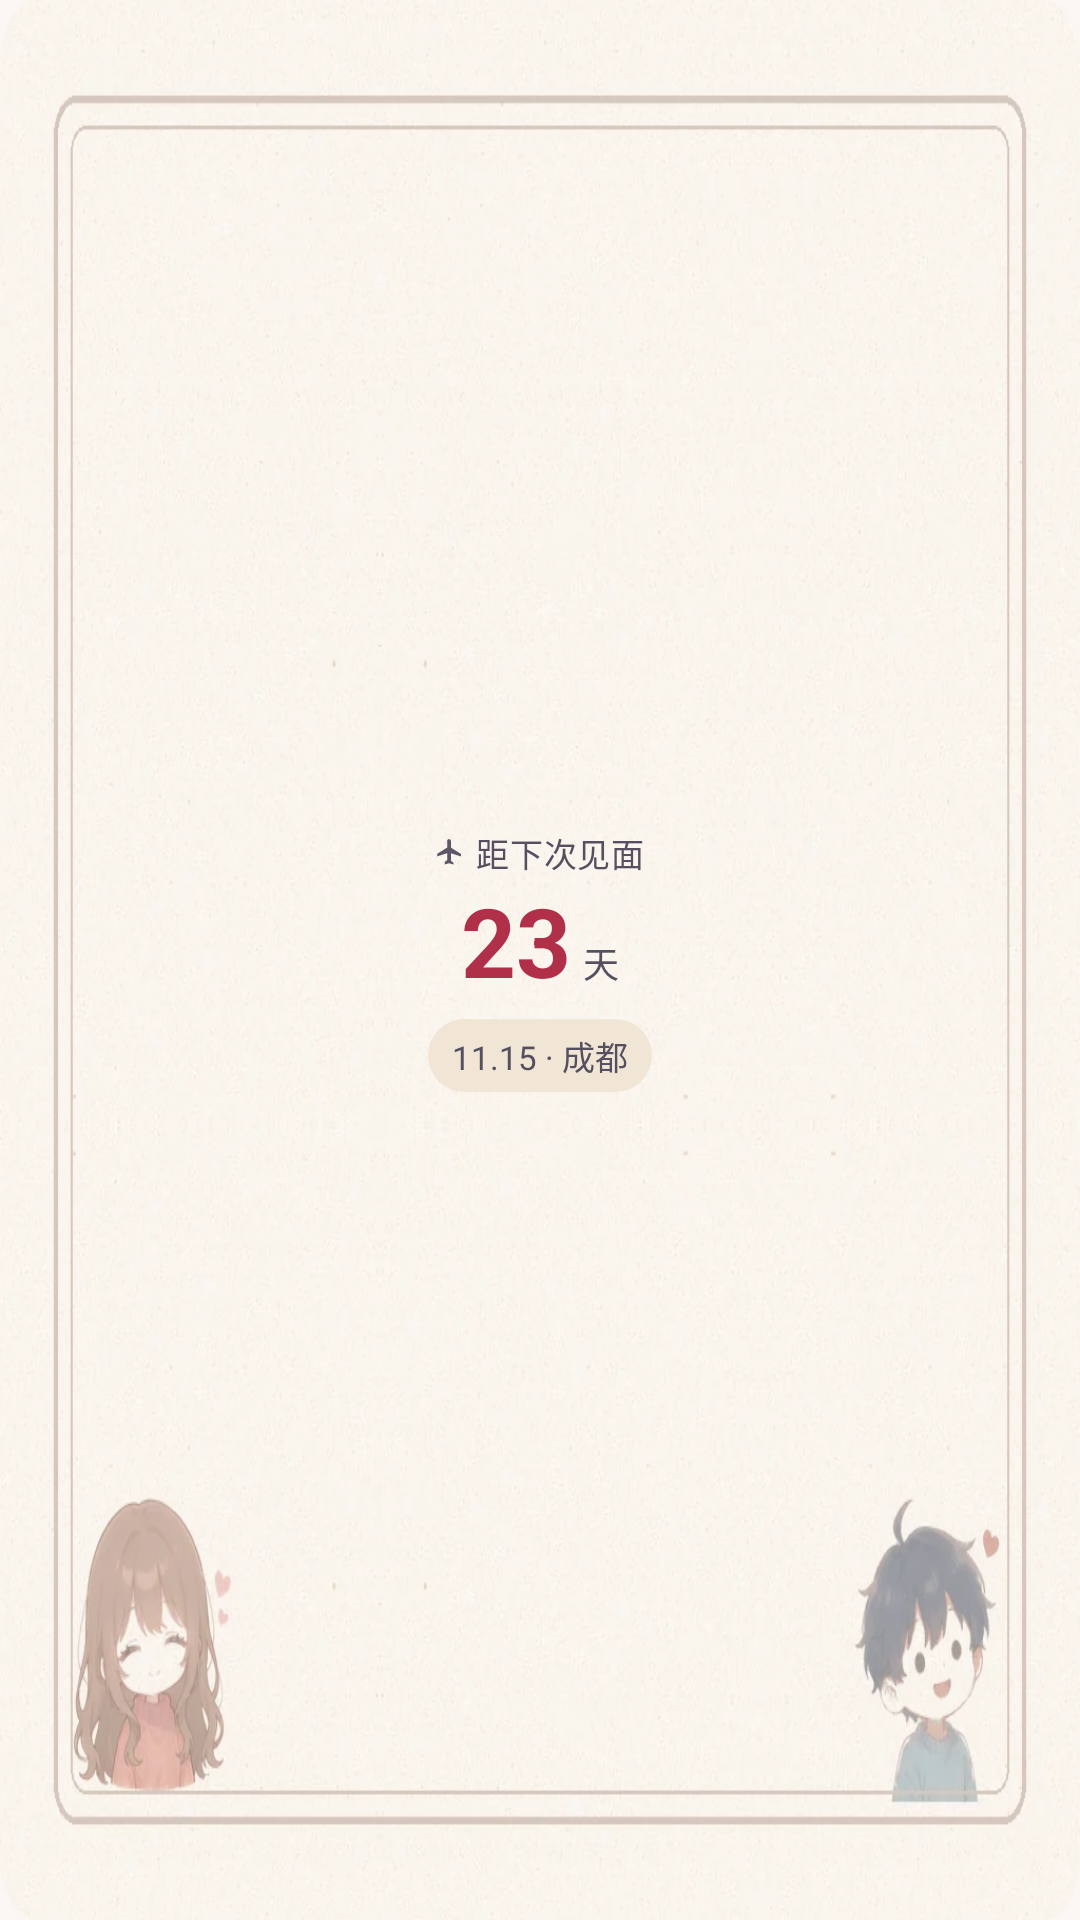

Point at icon controls on the screen. Image size 1080px×1920px, points as point (x, y).
plane: point (449, 852)
